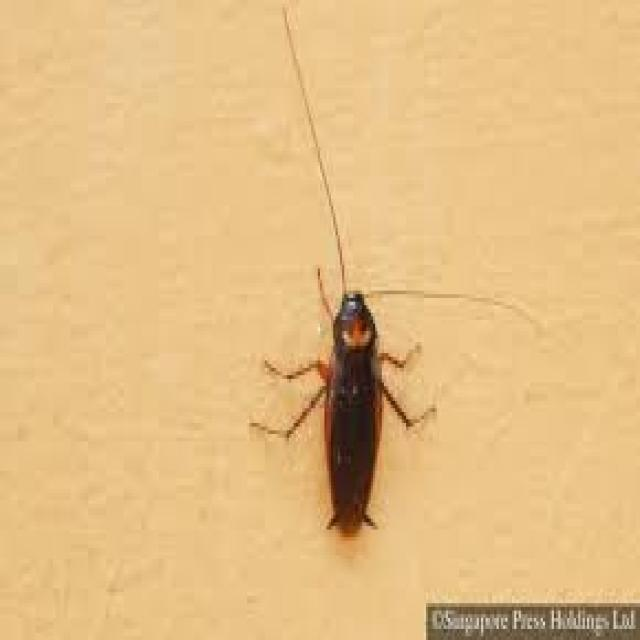Cockroach: (258, 213, 435, 544)
